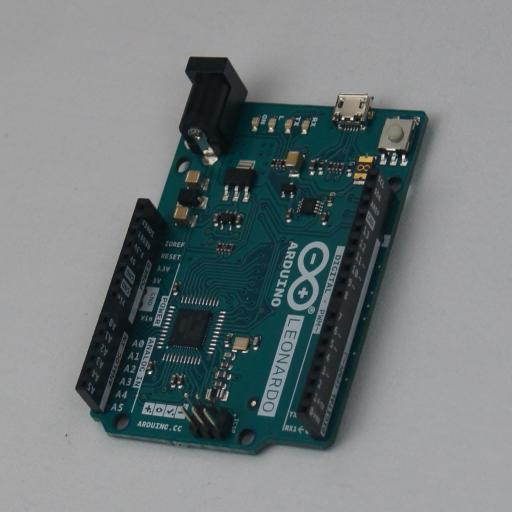Arduino Leonardo: (75, 56, 433, 456)
